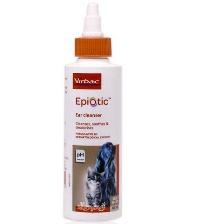cleaning_solution: (61, 0, 124, 224)
